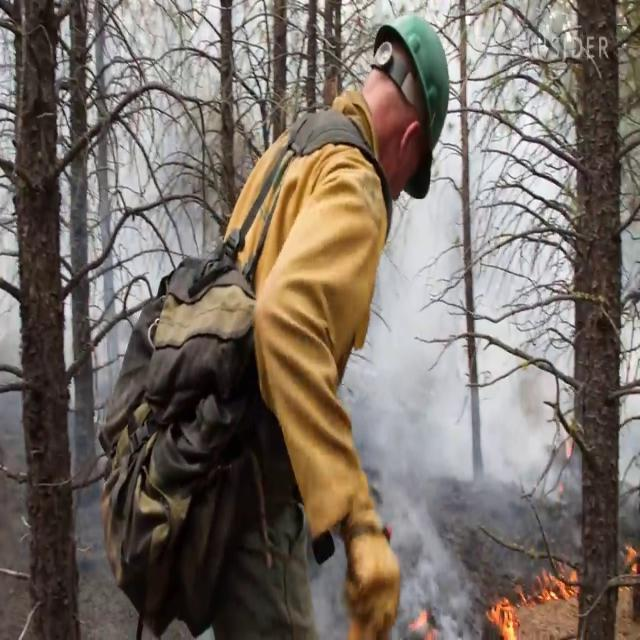Fire: (483, 584, 524, 638)
Smoke: (330, 24, 577, 604)
